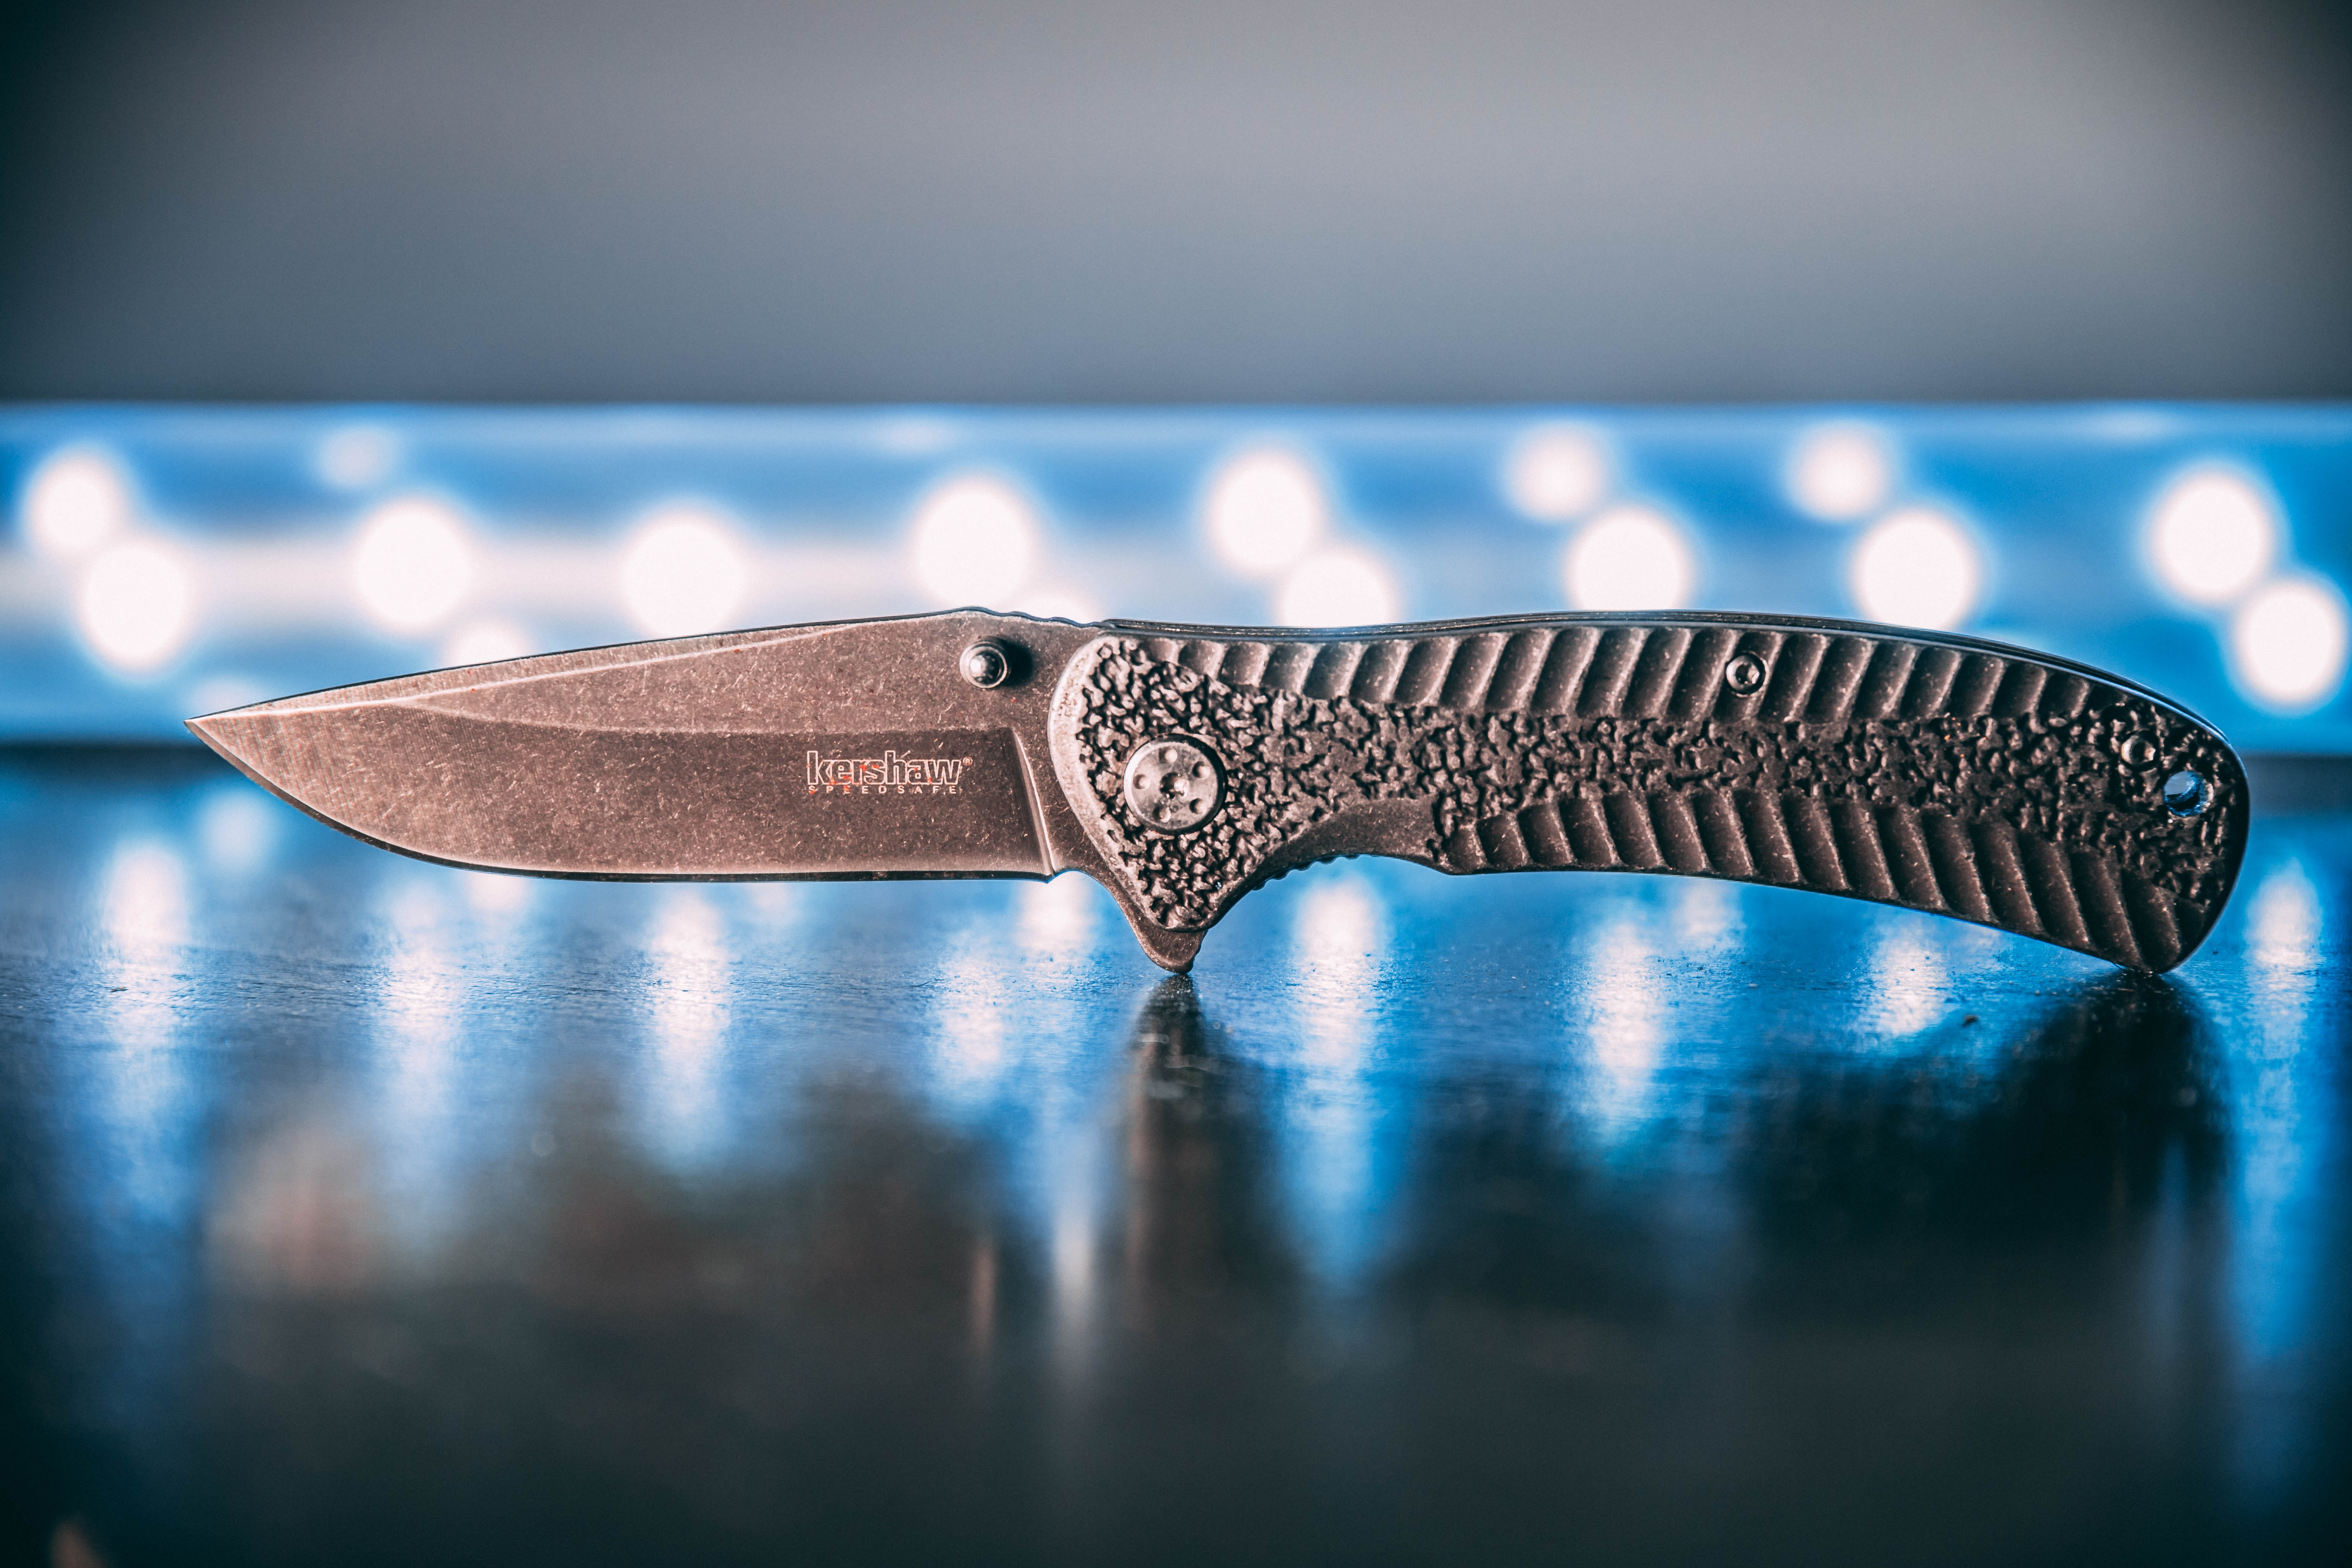knife: (128, 460, 2268, 1038)
